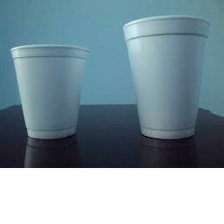paper_cup: (116, 9, 215, 144), (5, 39, 96, 144)
